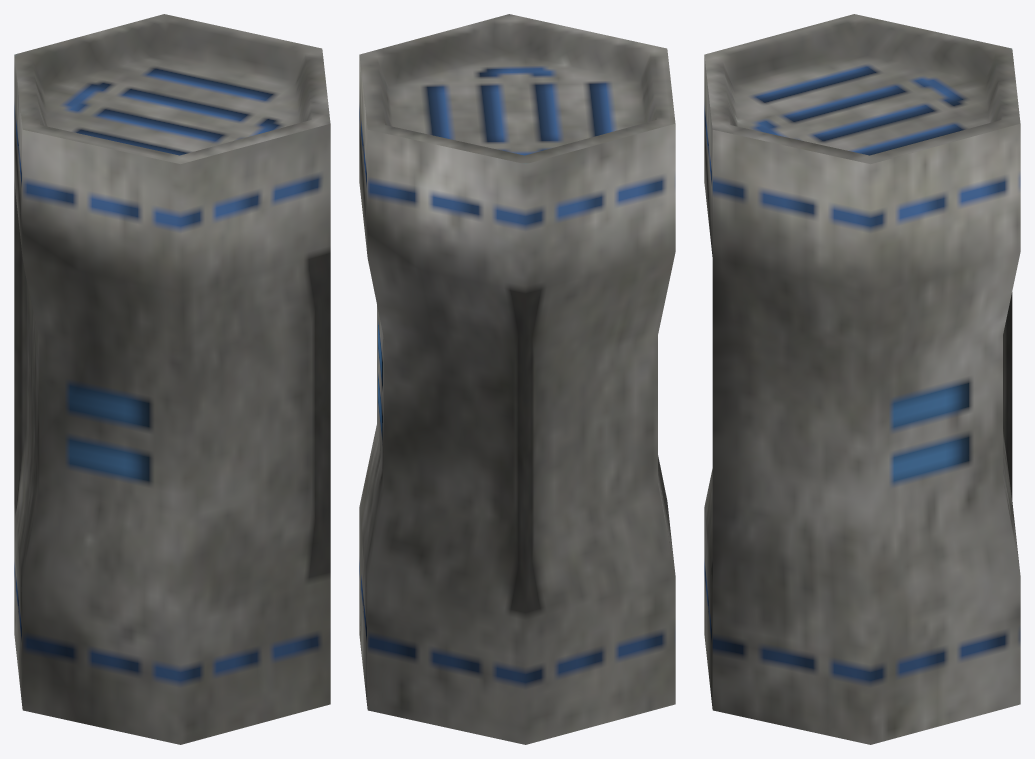
The model's file is BarrelSmall.fbx.
3 renders of one model, left to right at view 1: azimuth 30°, elevation 25°; view 2: azimuth 150°, elevation 25°; view 3: azimuth 270°, elevation 25°, orthographic.
Parts seen in each view (by area): view 1: polySurface3557; view 2: polySurface3557; view 3: polySurface3557.
Boxes of the visible parts, bbox=[...] form: polySurface3557: bbox=[14, 14, 330, 744]; polySurface3557: bbox=[359, 14, 675, 744]; polySurface3557: bbox=[704, 14, 1020, 744].
Bounding box in the file's own units: 2.57 × 4.63 × 2.28.
